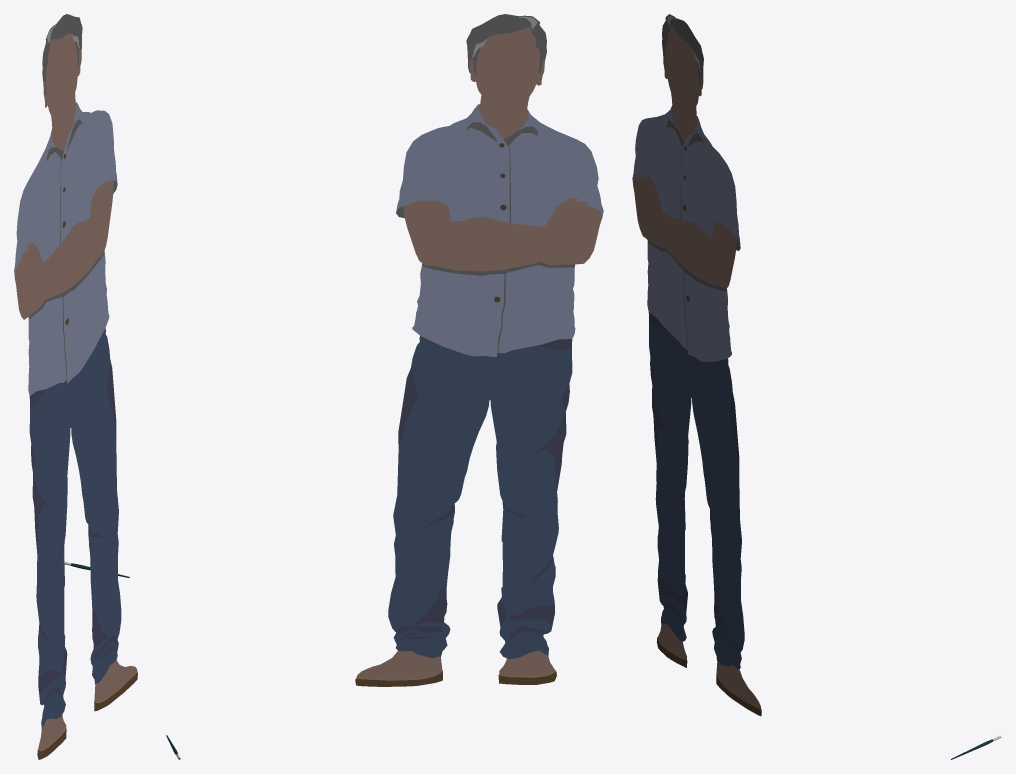
File: paintbrush_black.fbx
3 renders of one model, left to right at view 1: azimuth 30°, elevation 25°; view 2: azimuth 150°, elevation 25°; view 3: azimuth 270°, elevation 25°, orthographic. The views are drawn at different scales.
Parts seen in each view (by area): view 1: Niraj1; view 2: Niraj1; view 3: Niraj1.
Boxes of the visible parts, x1,y1,x2,y2 form: Niraj1: [14, 14, 137, 759]; Niraj1: [355, 14, 603, 686]; Niraj1: [632, 14, 761, 716].
Size of the model in its own units: 29.9 by 70.5 by 36.43.
